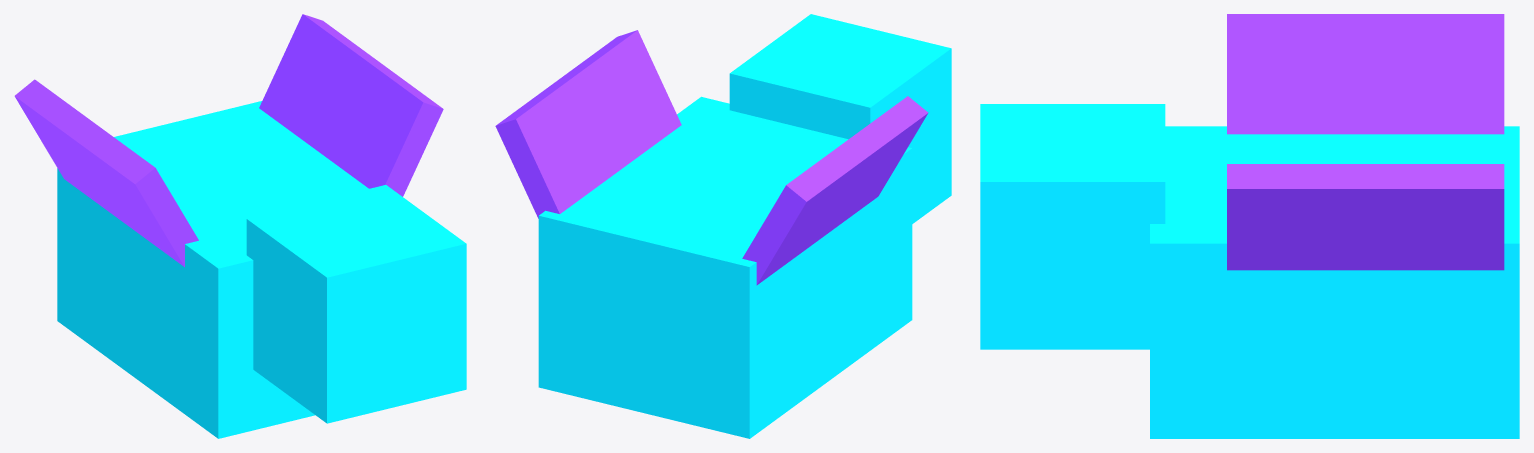
The model's file is 109-pixel-companion.glb.
3 renders of one model, left to right at view 1: azimuth 30°, elevation 25°; view 2: azimuth 150°, elevation 25°; view 3: azimuth 270°, elevation 25°, orthographic. The views are drawn at different scales.
Bounding box in the file's own units: 0.1327 × 0.1043 × 0.175.
